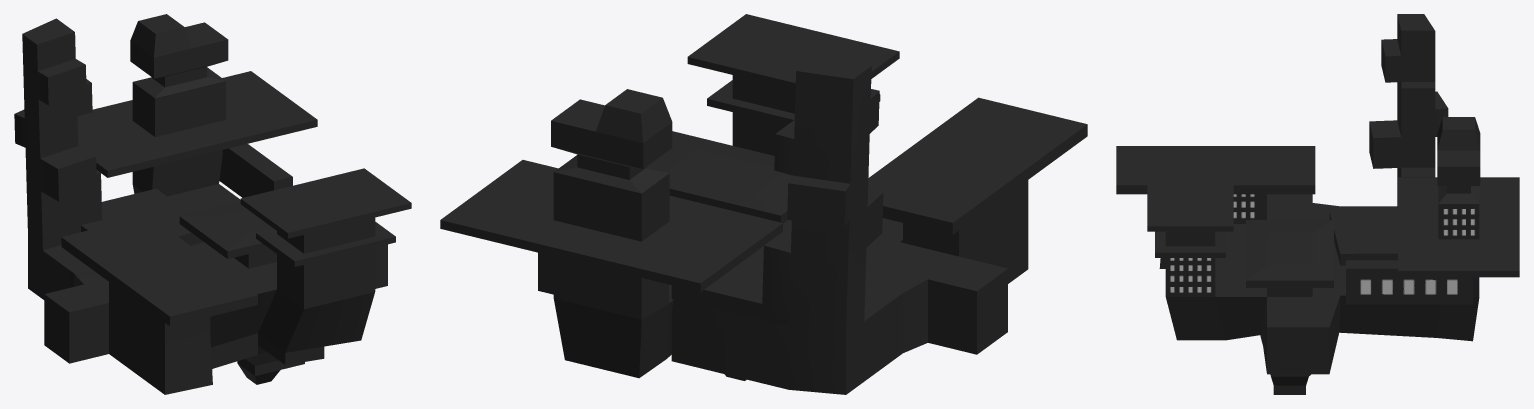
Rendered from Stage4.fbx.
The picture shows the model from 3 angles, left to right: view 1: azimuth 30°, elevation 25°; view 2: azimuth 150°, elevation 25°; view 3: azimuth 270°, elevation 25°; orthographic projection. The views are drawn at different scales.
Parts seen in each view (by area): view 1: pCube2, pCube3; view 2: pCube2, pCube3; view 3: pCube2, pCube3.
Boxes of the visible parts, x1=… form: pCube2: x1=14, y1=14, x2=411, y2=394; pCube3: x1=219, y1=144, x2=292, y2=197; pCube2: x1=440, y1=14, x2=1087, y2=394; pCube3: x1=538, y1=252, x2=553, y2=294; pCube2: x1=1116, y1=14, x2=1519, y2=394; pCube3: x1=1346, y1=260, x2=1472, y2=304.
Bounding box in the file's own units: 204 × 203 × 244.
Materials: 2 (2 with a texture image).
